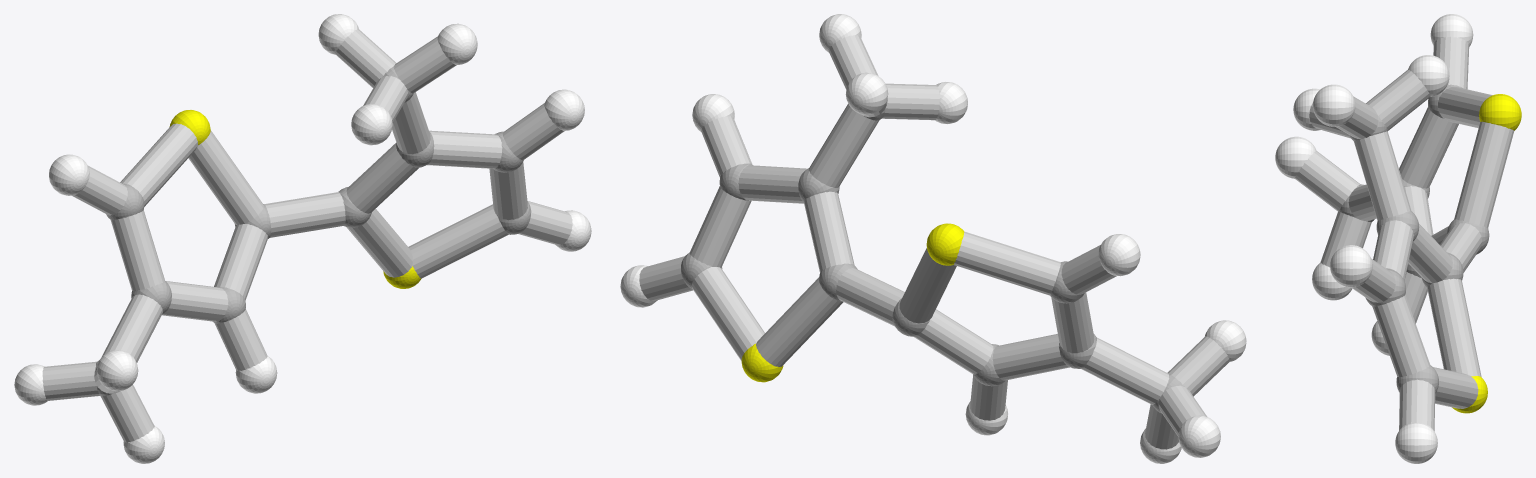
Rendered from Methylthiophene_Phi_30_Theta_50_Methylthiophene.glb.
3 views of the same model, side by side, from view 1: azimuth 30°, elevation 25°; view 2: azimuth 150°, elevation 25°; view 3: azimuth 270°, elevation 25° (orthographic). The views are drawn at different scales.
Visible parts, largest first — view 1: grp7965, grp3621, grp1, grp7241; view 2: grp7965, grp3621, grp1, grp7241; view 3: grp7965, grp3621, grp1, grp7241.
Part boxes in pixels (<box>): grp7965: <box>42,29,572,442</box>; grp3621: <box>14,14,591,463</box>; grp1: <box>95,66,531,396</box>; grp7241: <box>169,110,421,288</box>; grp7965: <box>639,35,1229,449</box>; grp3621: <box>620,14,1246,463</box>; grp1: <box>681,108,1184,413</box>; grp7241: <box>741,223,964,382</box>; grp7965: <box>1295,36,1514,431</box>; grp3621: <box>1275,14,1473,463</box>; grp1: <box>1339,84,1489,393</box>; grp7241: <box>1452,94,1521,413</box>.
Bounding box in the file's own units: 9.61 × 5.73 × 3.47.
